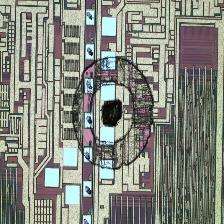PARTICLE: (72, 56, 159, 172)
